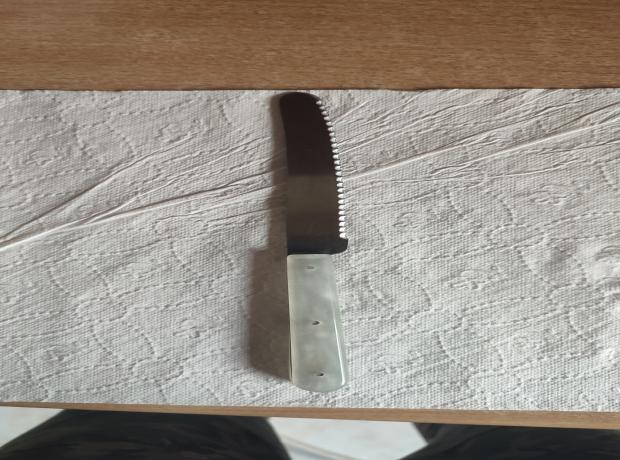metal: (274, 92, 351, 394)
